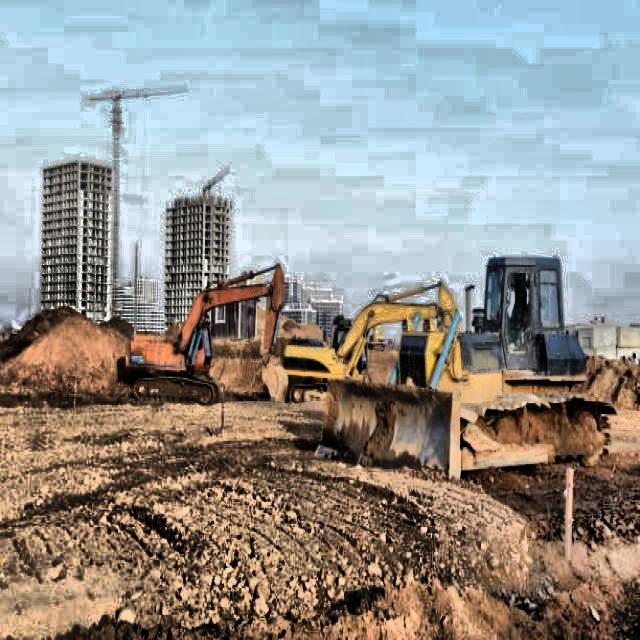bull_dozer/loader/grader: (317, 246, 619, 484)
excavator: (111, 262, 288, 413)
